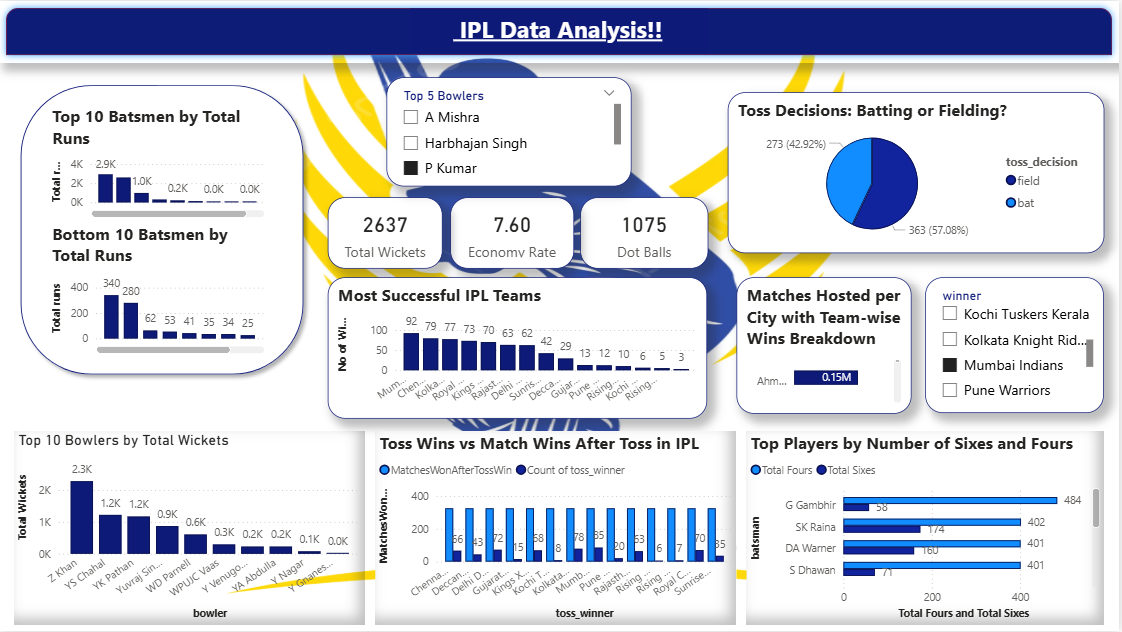

This screenshot's page, from the dashboard's own definition file:
{"tool":"powerbi","page":{"name":"Page 1","canvas":[1280,720],"ordinal":0},"visuals":[{"type":"shape","box":[16.2,87.5,341.2,348.8],"z":500},{"type":"clusteredColumnChart","title":"Top 10 Batsmen by Total Runs","fields":{"Category":["deliveries csv.batsman"],"Y":["deliveries csv.batsman_runs"]},"box":[55,118.8,252.5,133.8],"z":1000},{"type":"shape","box":[0,0,1280,70],"z":2000},{"type":"textbox","box":[470,8.8,340,51.2],"z":3000},{"type":"clusteredColumnChart","title":"Bottom 10 Batsmen by Total Runs","fields":{"Category":["deliveries csv.batsman"],"Y":["deliveries csv.batsman_runs"]},"box":[55,252.5,252.5,155],"z":4000},{"type":"clusteredColumnChart","title":"Top 10 Bowlers by Total Wickets","fields":{"Category":["deliveries csv.bowler"],"Y":["deliveries csv.player_dismissed"]},"box":[17.1,491.4,401.4,221.4],"z":5000},{"type":"card","fields":{"Values":["deliveries csv.Dot Balls"]},"box":[663.8,223.8,146.2,81.2],"z":6000},{"type":"card","fields":{"Values":["deliveries csv.Economy Rate"]},"box":[516.2,223.8,141.2,81.2],"z":7000},{"type":"card","fields":{"Values":["deliveries csv.Total Wickets"]},"box":[376.2,223.8,131.2,81.2],"z":8000},{"type":"slicer","fields":{"Values":["Top5Bowlers.bowler"]},"box":[442.5,87.5,280,125],"z":9000},{"type":"clusteredColumnChart","title":"Most Successful IPL Teams","fields":{"Category":["matches (1) csv.winner"],"Y":["matches (1) csv.winner"]},"box":[376.2,316.2,433.8,161.2],"z":10000},{"type":"clusteredColumnChart","title":"Toss Wins vs Match Wins After Toss in IPL","fields":{"Category":["matches (1) csv.toss_winner"],"Y":["matches (1) csv.MatchesWonAfterTossWin","matches (1) csv.toss_winner"]},"box":[430,491.4,412.9,221.4],"z":11000},{"type":"clusteredBarChart","title":"Top Players by Number of Sixes and Fours","fields":{"Category":["deliveries csv.batsman"],"Y":["matches (1) csv.Total Fours","matches (1) csv.Total Sixes"]},"box":[854.3,491.4,408.6,221.4],"z":12000},{"type":"pieChart","title":"Toss Decisions: Batting or Fielding?","fields":{"Category":["matches (1) csv.toss_decision"],"Y":["matches (1) csv.Toss Count"]},"box":[832.5,103.8,430,183.8],"z":13000},{"type":"clusteredBarChart","title":"Matches Hosted per City with Team-wise Wins Breakdown","fields":{"Category":["matches (1) csv.city"],"Y":["deliveries csv.match_id"],"Series":["matches (1) csv.winner"]},"box":[842.9,315.7,200,155.7],"z":14000},{"type":"slicer","fields":{"Values":["matches (1) csv.winner"]},"box":[1058.8,316.2,203.8,155],"z":15000}]}

Visuals, with their boxes in screenshot pixels (x1, y1, x2, y2), scaled from the page's 1280x720 canvas onto the 1122x632 screenshot:
shape: <bbox>14, 77, 313, 383</bbox>
"Top 10 Batsmen by Total Runs" clusteredColumnChart: <bbox>48, 104, 270, 222</bbox>
shape: <bbox>0, 0, 1121, 61</bbox>
textbox: <bbox>412, 8, 710, 53</bbox>
"Bottom 10 Batsmen by Total Runs" clusteredColumnChart: <bbox>48, 222, 270, 358</bbox>
"Top 10 Bowlers by Total Wickets" clusteredColumnChart: <bbox>15, 431, 367, 626</bbox>
card - deliveries csv.Dot Balls: <bbox>582, 196, 710, 268</bbox>
card - deliveries csv.Economy Rate: <bbox>452, 196, 576, 268</bbox>
card - deliveries csv.Total Wickets: <bbox>330, 196, 445, 268</bbox>
slicer - Top5Bowlers.bowler: <bbox>388, 77, 633, 187</bbox>
"Most Successful IPL Teams" clusteredColumnChart: <bbox>330, 278, 710, 419</bbox>
"Toss Wins vs Match Wins After Toss in IPL" clusteredColumnChart: <bbox>377, 431, 739, 626</bbox>
"Top Players by Number of Sixes and Fours" clusteredBarChart: <bbox>749, 431, 1107, 626</bbox>
"Toss Decisions: Batting or Fielding?" pieChart: <bbox>730, 91, 1107, 252</bbox>
"Matches Hosted per City with Team-wise Wins Breakdown" clusteredBarChart: <bbox>739, 277, 914, 414</bbox>
slicer - matches (1) csv.winner: <bbox>928, 278, 1107, 414</bbox>
